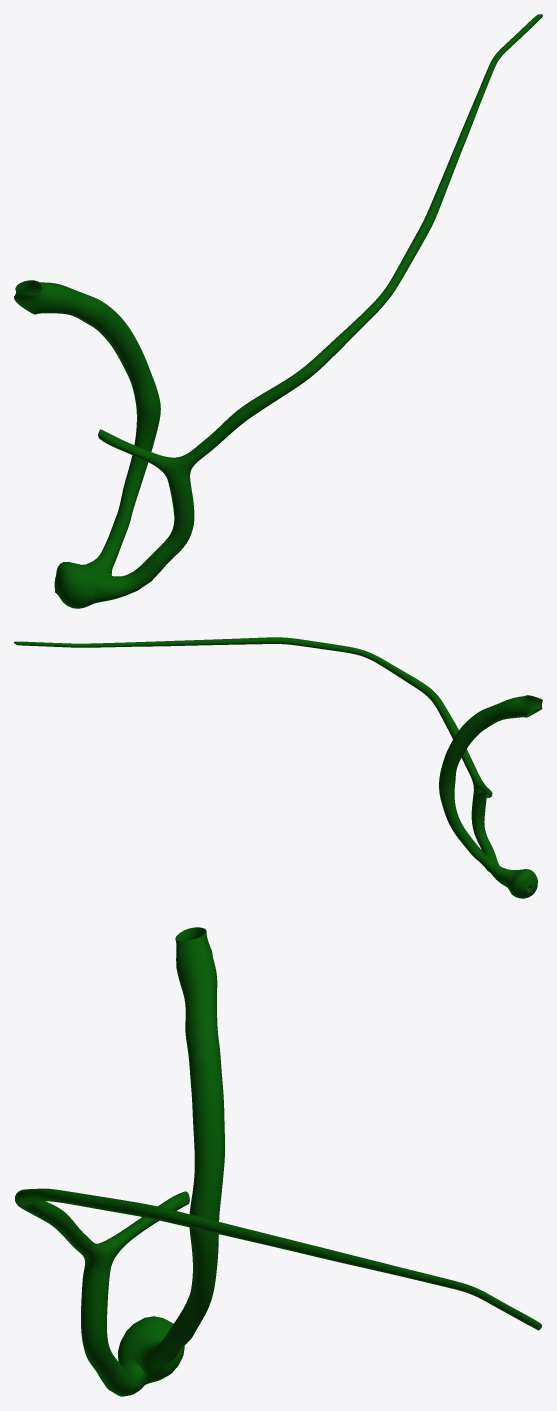
Rendered from VH_M_Ducts_of_Pancreas.fbx.
The picture shows the model from 3 angles, top to bottom: view 1: azimuth 30°, elevation 25°; view 2: azimuth 150°, elevation 25°; view 3: azimuth 270°, elevation 25°; orthographic projection. The views are drawn at different scales.
Parts seen in each view (by area): view 1: VH_M_ventral_pancreatic_duct, VH_M_common_bile_duct, VH_M_hepatopancreatic_ampulla, VH_M_dorsal_pancreatic_duct; view 2: VH_M_ventral_pancreatic_duct, VH_M_common_bile_duct, VH_M_hepatopancreatic_ampulla; view 3: VH_M_common_bile_duct, VH_M_ventral_pancreatic_duct, VH_M_hepatopancreatic_ampulla, VH_M_dorsal_pancreatic_duct.
Boxes of the visible parts, box(x1,y1,x2,y2) form: VH_M_ventral_pancreatic_duct: box(99, 14, 542, 602); VH_M_common_bile_duct: box(14, 280, 160, 573); VH_M_hepatopancreatic_ampulla: box(54, 562, 111, 608); VH_M_dorsal_pancreatic_duct: box(98, 429, 176, 476); VH_M_ventral_pancreatic_duct: box(14, 637, 506, 886); VH_M_common_bile_duct: box(439, 695, 542, 881); VH_M_hepatopancreatic_ampulla: box(503, 869, 537, 898); VH_M_common_bile_duct: box(141, 927, 224, 1371); VH_M_ventral_pancreatic_duct: box(15, 1188, 541, 1396); VH_M_hepatopancreatic_ampulla: box(118, 1316, 184, 1384); VH_M_dorsal_pancreatic_duct: box(101, 1191, 189, 1262).
Bounding box in the file's own units: 11.49 × 5.65 × 5.94.
